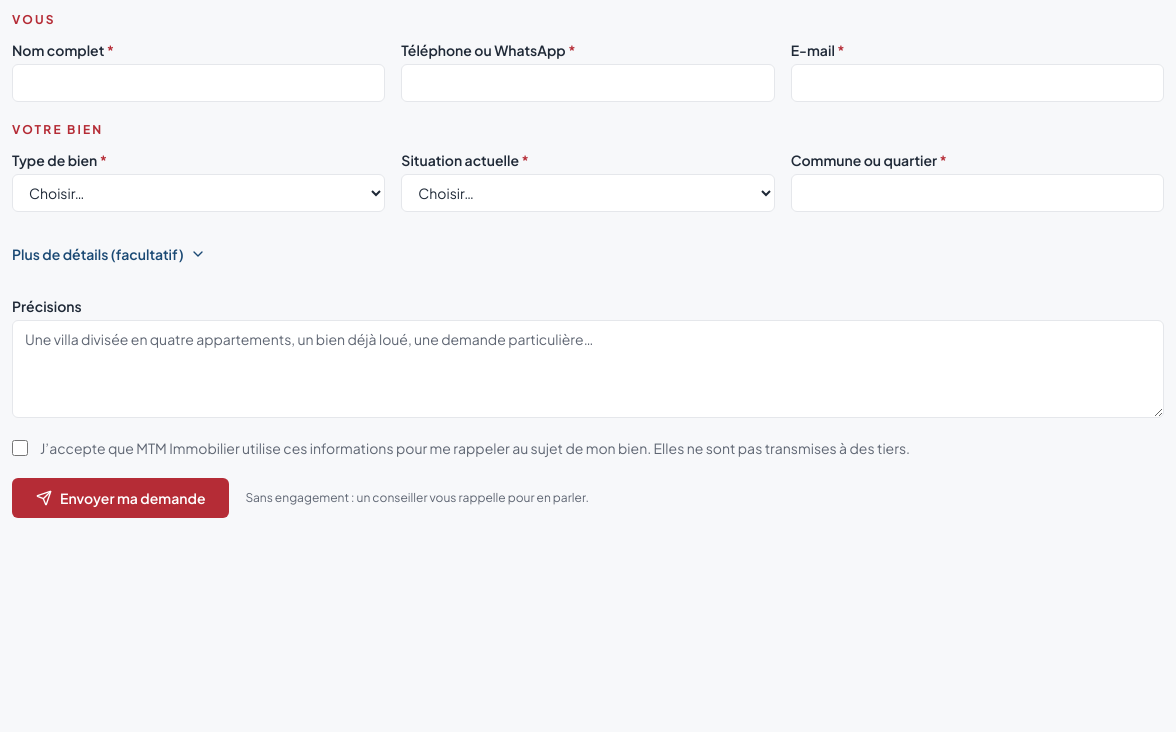
Test case: FormulaireConfierBien › refuse l’envoi tant que les champs essentiels et le consentement manquent
Step 1. Click the button "Envoyer ma demande" → (121, 498), box [12,478,230,518]
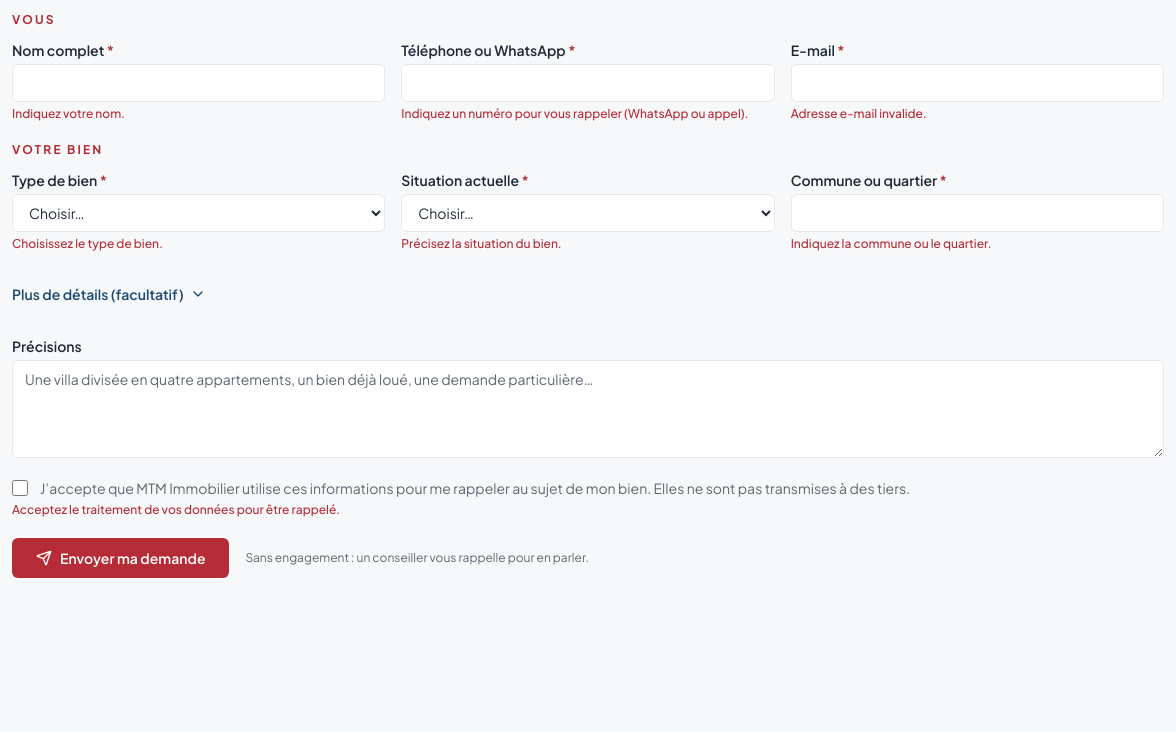
Expected: the text "Indiquez votre nom." is shown, [12,106,125,121]
Expected: the text "Choisissez le type de bien." is shown, [12,236,163,251]
Expected: the text "Acceptez le traitement de vos données pour être rappelé." is shown, [12,502,340,517]
